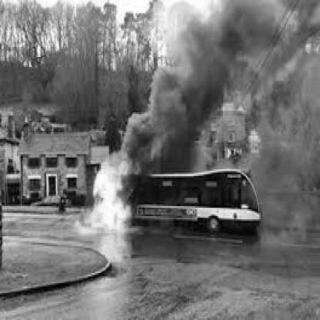Fire: (84, 144, 140, 238)
Smoke: (117, 7, 273, 167)
